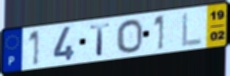1: (27, 29, 41, 67), (152, 14, 166, 51)
4: (52, 25, 78, 63)
L: (180, 11, 204, 49)
O: (115, 18, 144, 54)
T: (89, 21, 113, 57)
